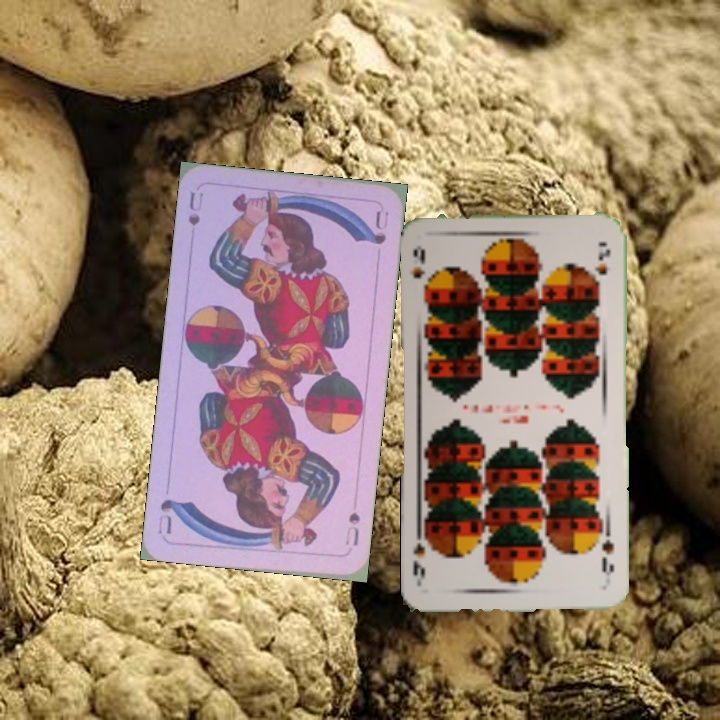S9: (408, 241, 435, 295), (597, 536, 616, 579)
SU: (184, 187, 205, 229), (341, 508, 363, 548)
